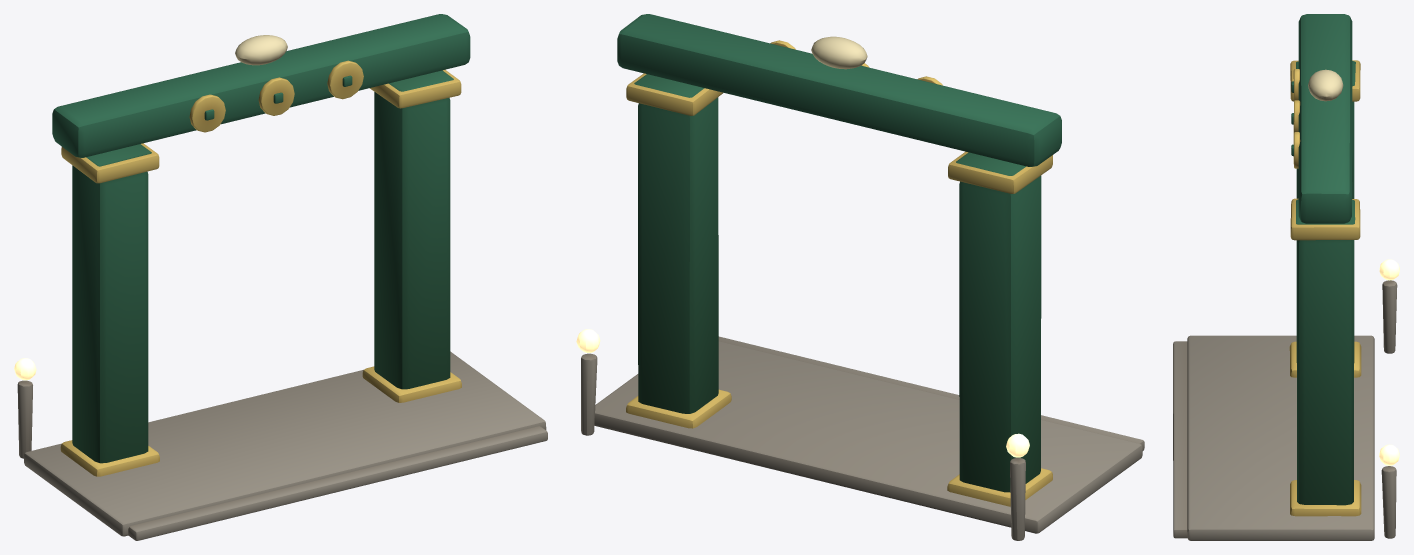
3 renders of one model, left to right at view 1: azimuth 30°, elevation 25°; view 2: azimuth 150°, elevation 25°; view 3: azimuth 270°, elevation 25°, orthographic. The views are drawn at different scales.
Parts seen in each view (by area): view 1: gate_3bb635bb; view 2: gate_3bb635bb; view 3: gate_3bb635bb.
Boxes of the visible parts, bbox=[...] form: gate_3bb635bb: bbox=[14, 14, 547, 540]; gate_3bb635bb: bbox=[576, 14, 1144, 540]; gate_3bb635bb: bbox=[1173, 14, 1399, 540].
Size of the model in its own units: 5.18 by 4.6 by 2.55.
